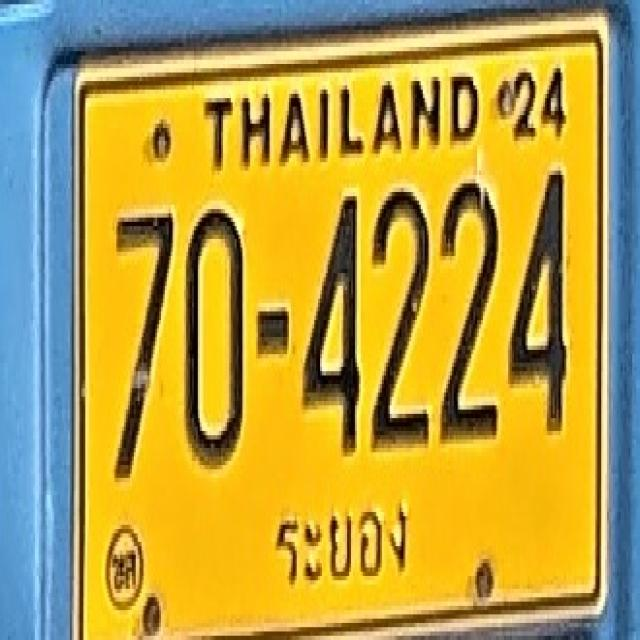0: (185, 207, 242, 467)
2: (440, 177, 498, 442), (371, 188, 428, 452)
4: (508, 169, 566, 433), (302, 192, 359, 452)
7: (114, 209, 172, 478)
RYG: (272, 490, 419, 592)
